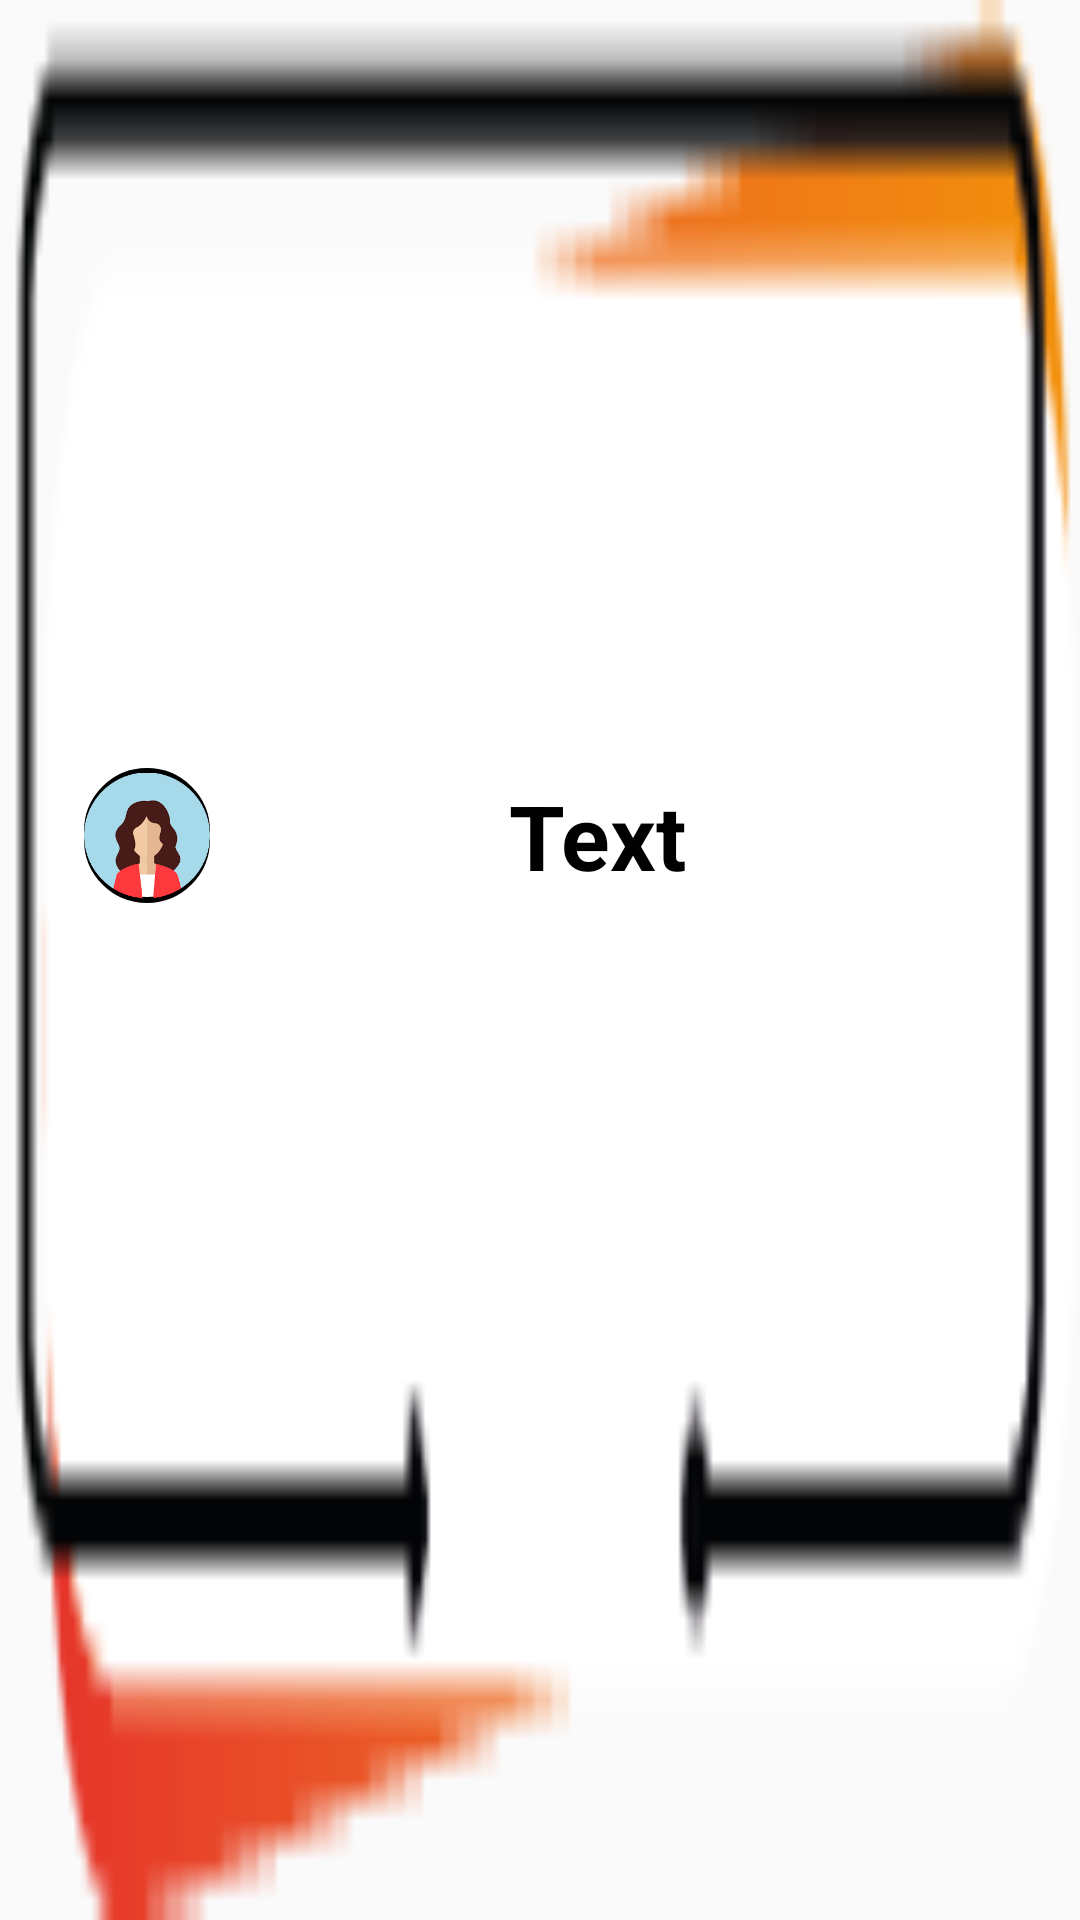

Where icons sit on this 1080px×1920px app screen, as (x1, y1, x2, y2):
femaleavatar: (84, 768, 210, 903)
